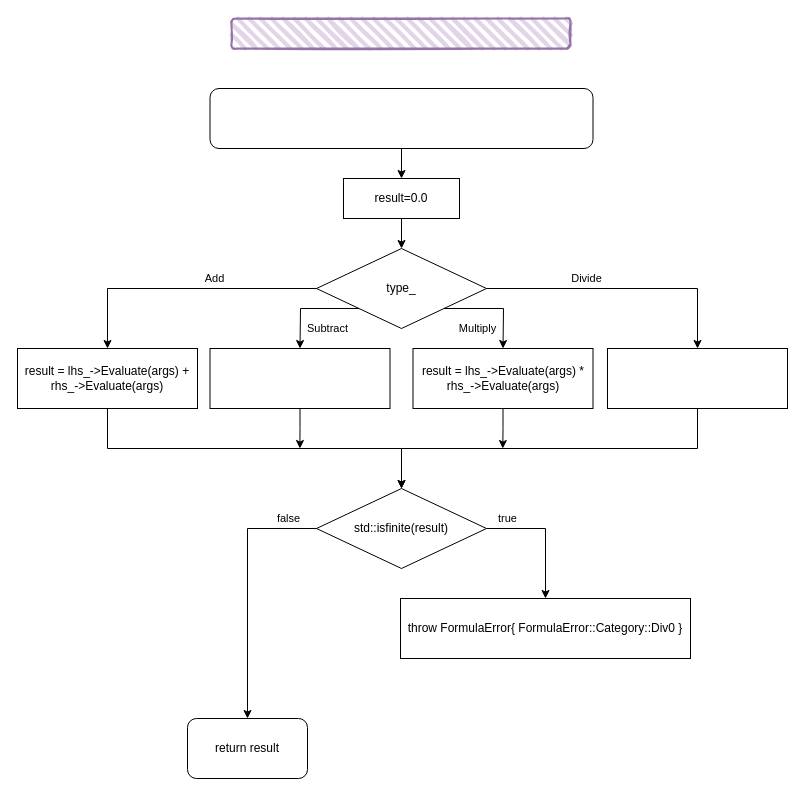
This 805x796 diagram has some shape labels left out. The shapes that lost their labels are listed below. From the top down, each one's centre as x and y in pixels, then its label:
At pixel 400 33: "FORMULA CALCULATION".
At pixel 401 118: "double Evaluate(const SheetArgs& args) const override".
At pixel 299 378: "result = lhs_->Evaluate(args) - rhs_->Evaluate(args)".
At pixel 697 378: "result = lhs_->Evaluate(args) / rhs_->Evaluate(args)".
